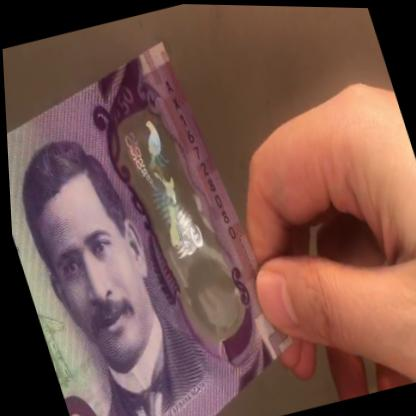50F: (112, 107, 238, 332)
